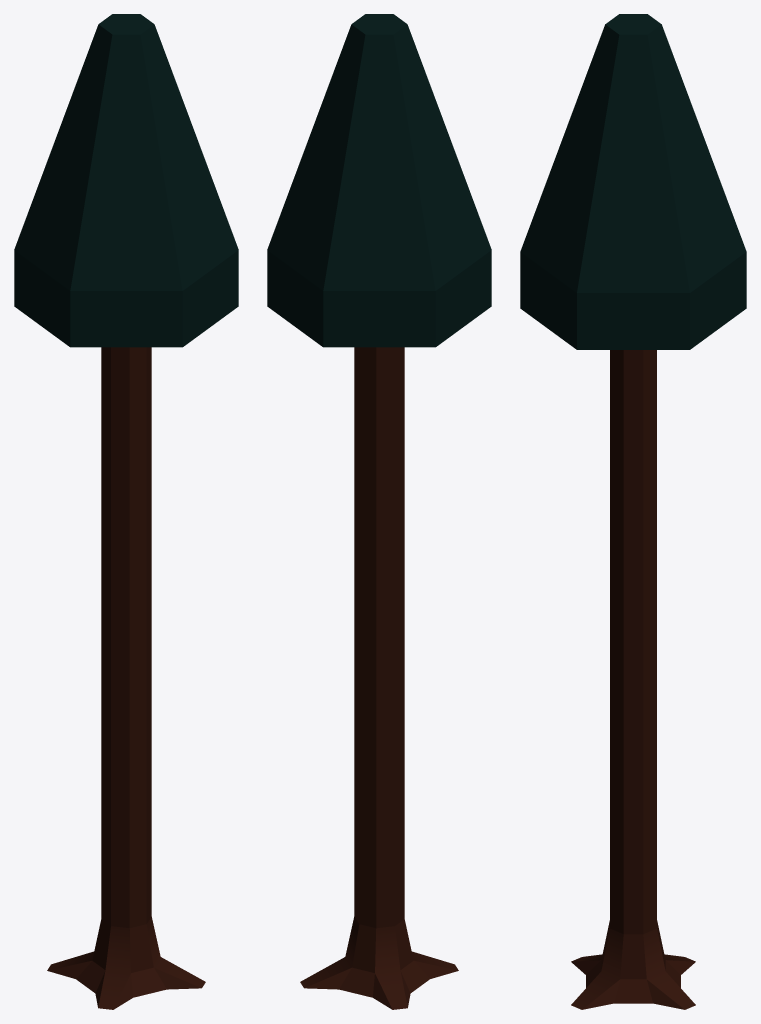
The model's file is LongTree1.fbx.
3 renders of one model, left to right at view 1: azimuth 30°, elevation 25°; view 2: azimuth 150°, elevation 25°; view 3: azimuth 270°, elevation 25°, orthographic.
Visible parts, largest first — view 1: mergedBlocks; view 2: mergedBlocks; view 3: mergedBlocks.
Part boxes in pixels (box(x1,y1,x2,y2)): mergedBlocks: box(14, 14, 238, 1009); mergedBlocks: box(267, 14, 491, 1009); mergedBlocks: box(520, 14, 746, 1009).
Bounding box in the file's own units: 15 × 81 × 17.32.
